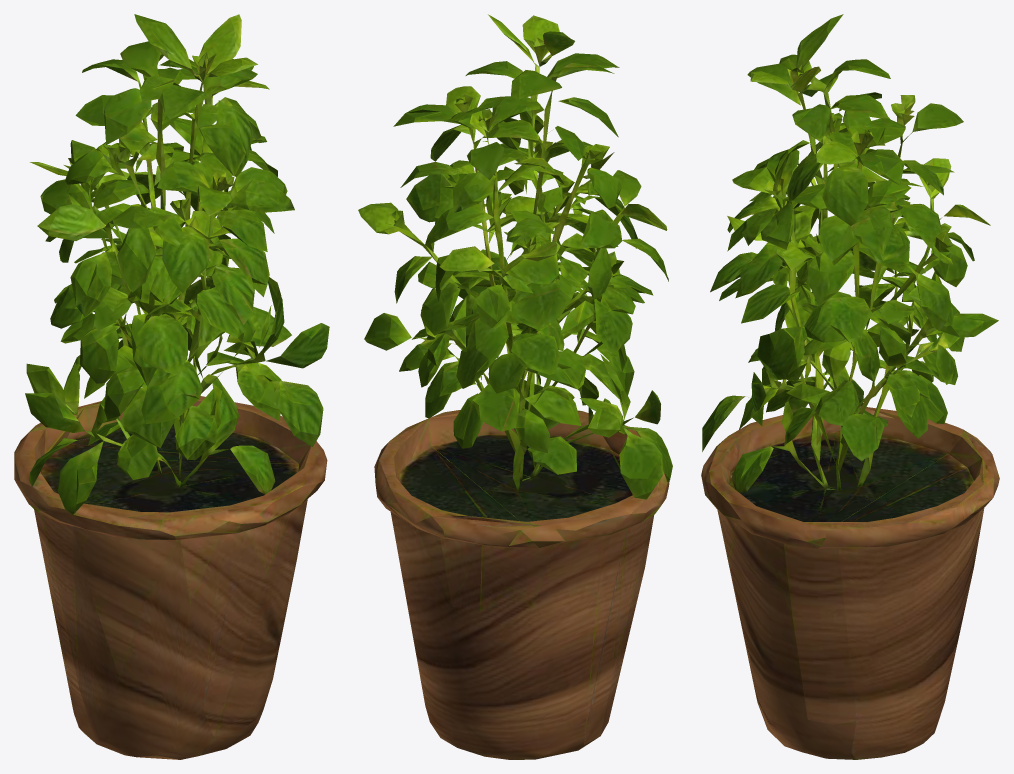
The model's file is plant_small.glb.
The picture shows the model from 3 angles, left to right: view 1: azimuth 30°, elevation 25°; view 2: azimuth 150°, elevation 25°; view 3: azimuth 270°, elevation 25°; orthographic projection. The views are drawn at different scales.
Size of the model in its own units: 0.7634 by 1.9 by 0.7382.
Materials: 1 (1 with a texture image).
